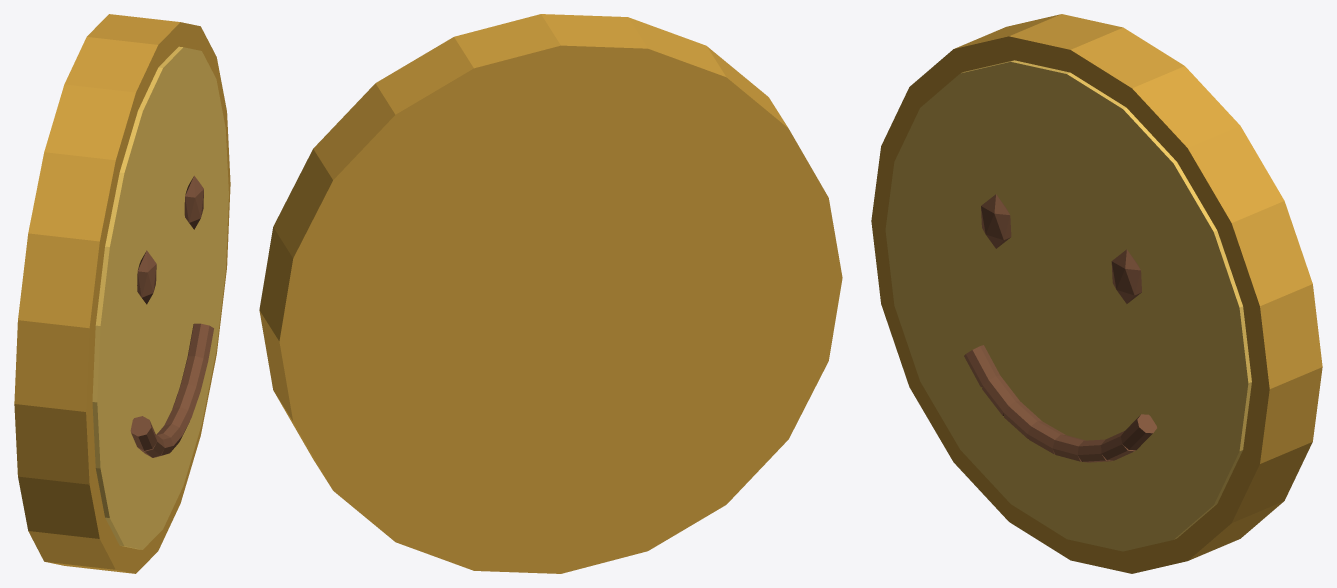
The model's file is happiness.glb.
3 views of the same model, side by side, from view 1: azimuth 30°, elevation 25°; view 2: azimuth 150°, elevation 25°; view 3: azimuth 270°, elevation 25° (orthographic). The views are drawn at different scales.
Parts seen in each view (by area): view 1: happiness; view 2: happiness; view 3: happiness.
Boxes of the visible parts, bbox=[...] form: happiness: bbox=[14, 14, 230, 573]; happiness: bbox=[259, 14, 842, 573]; happiness: bbox=[871, 14, 1322, 573].
Size of the model in its own units: 1.03 by 1.28 by 1.03.
